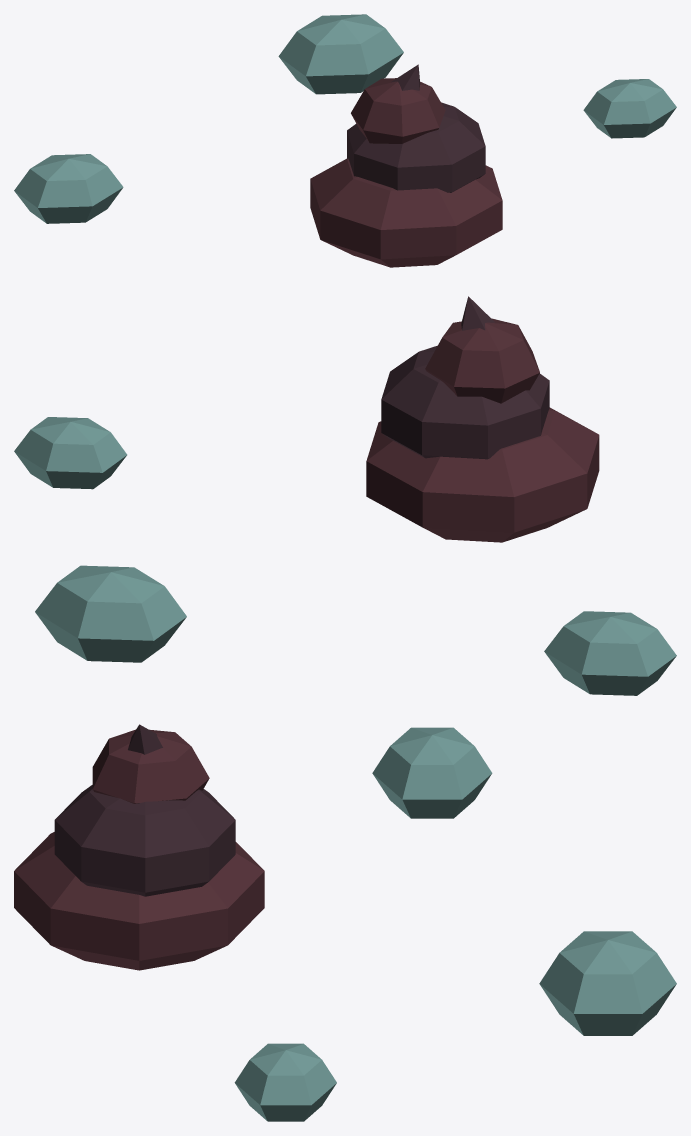
The model's file is caca.glb.
3 views of the same model, one above another, from view 1: azimuth 30°, elevation 25°; view 2: azimuth 150°, elevation 25°; view 3: azimuth 270°, elevation 25° (orthographic). The views are drawn at different scales.
Parts seen in each view (by area): view 1: Caca; view 2: Caca; view 3: Caca.
Boxes of the visible parts, left/top/right/bottom form: Caca: left=14, top=14, right=676, bottom=267; Caca: left=14, top=296, right=676, bottom=695; Caca: left=14, top=724, right=676, bottom=1121.
Size of the model in its own units: 0.579 by 0.1779 by 0.4526.
